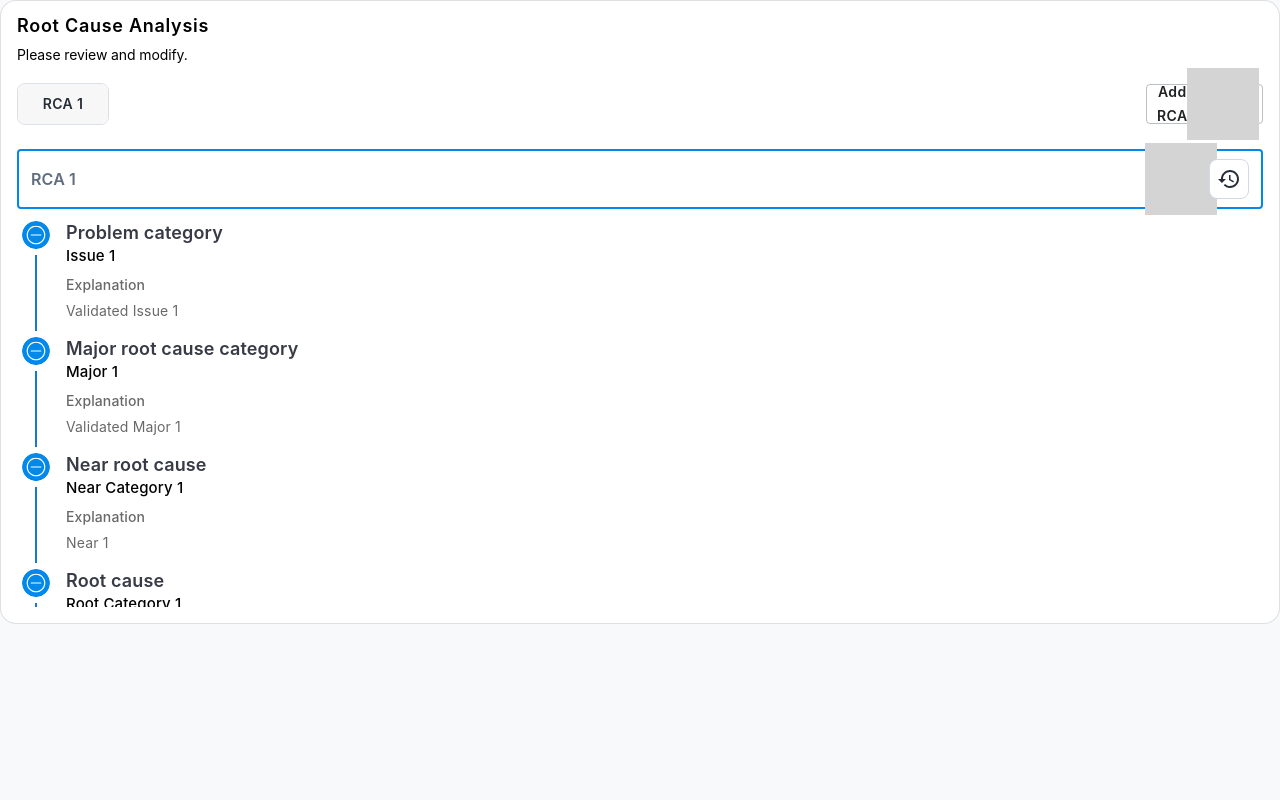
it: RootCauseAnalysis › adds new RCA when Add RCA button is clicked
The image size is (1280, 800).
Expected: the heading "RCA 1" is shown, [31,169,76,189]
Step 1. Click the button "Add RCA" → (1204,104), box [1146,84,1263,124]
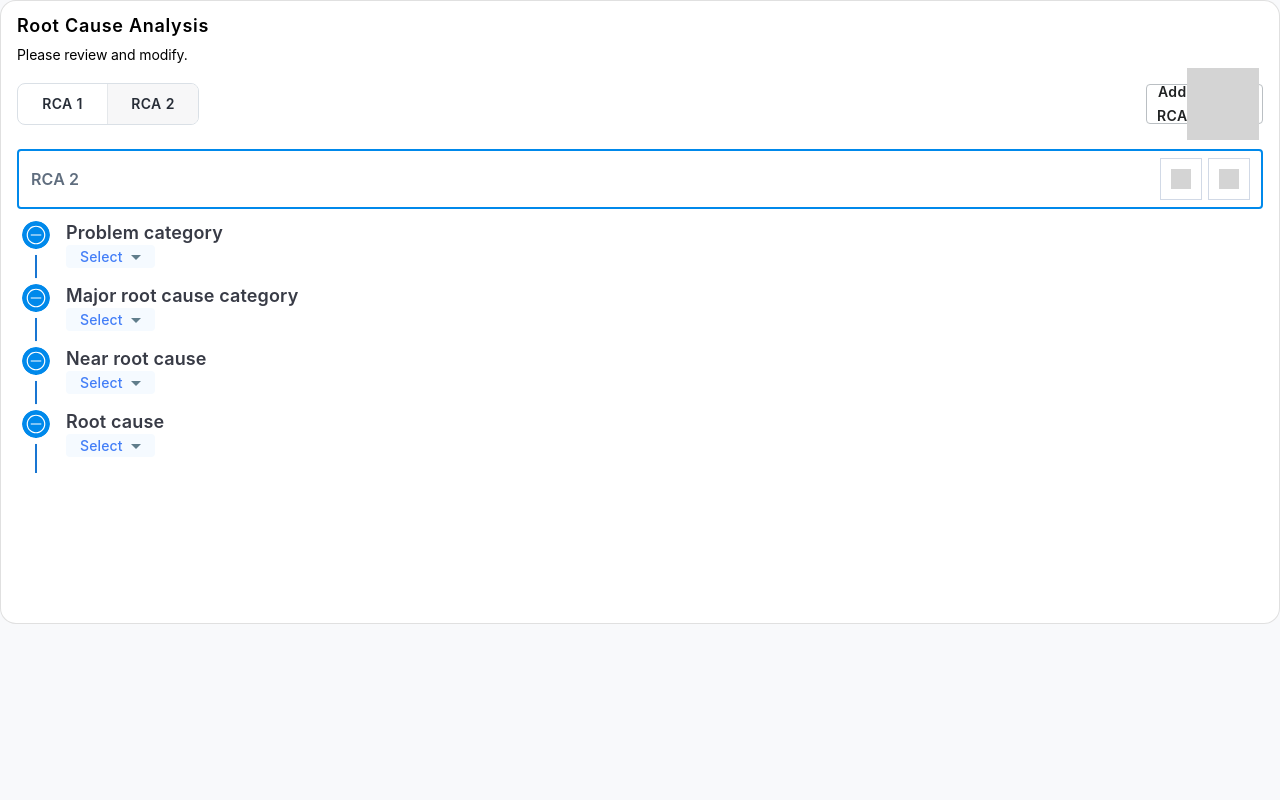
Expected: the tab "RCA 2" is shown, [108,84,198,124]
